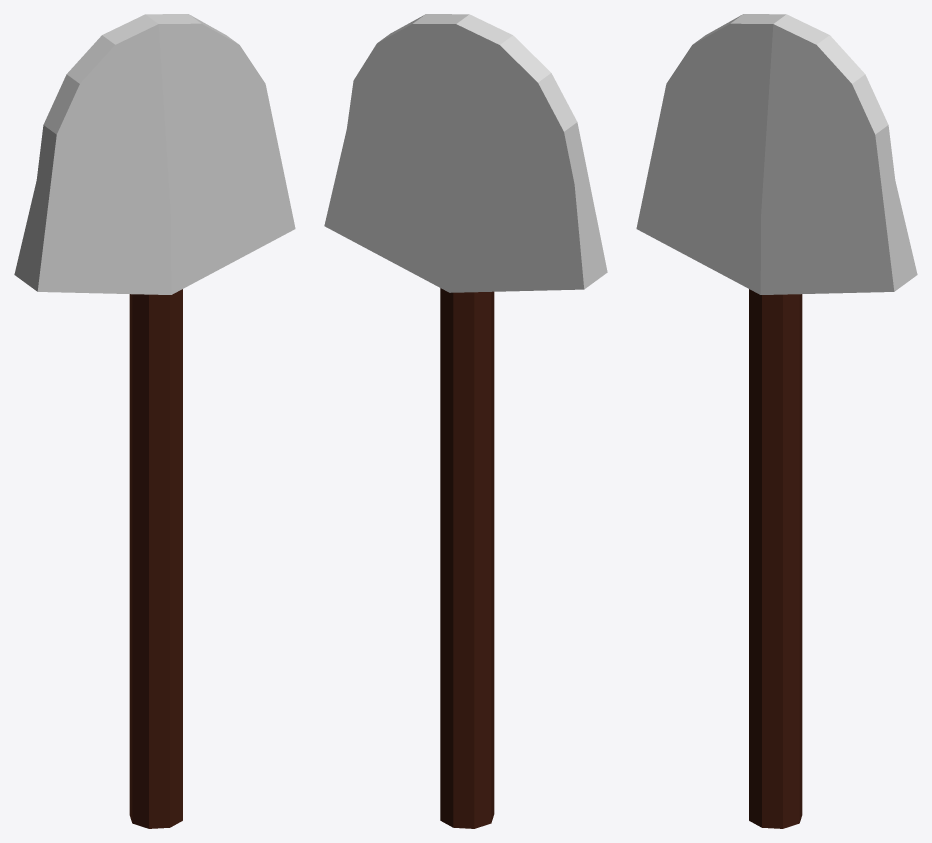
File: Shovel.fbx
3 renders of one model, left to right at view 1: azimuth 30°, elevation 25°; view 2: azimuth 150°, elevation 25°; view 3: azimuth 330°, elevation 25°, orthographic.
Parts seen in each view (by area): view 1: Shovel; view 2: Shovel; view 3: Shovel.
Boxes of the visible parts, x1,y1,x2,y2 form: Shovel: (14,14,295,828); Shovel: (324,14,607,828); Shovel: (636,14,917,828).
Bounding box in the file's own units: 162 × 35.38 × 476.
